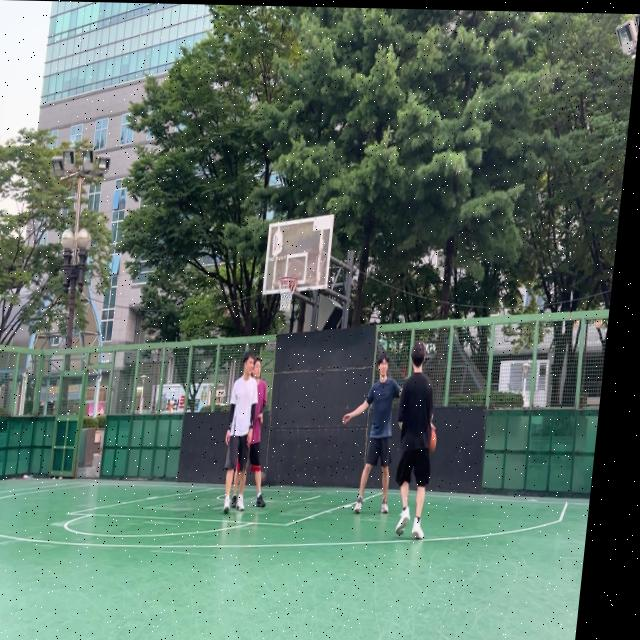basketball: (428, 427, 438, 453), (259, 471, 266, 488)
hoop: (275, 276, 298, 313)
